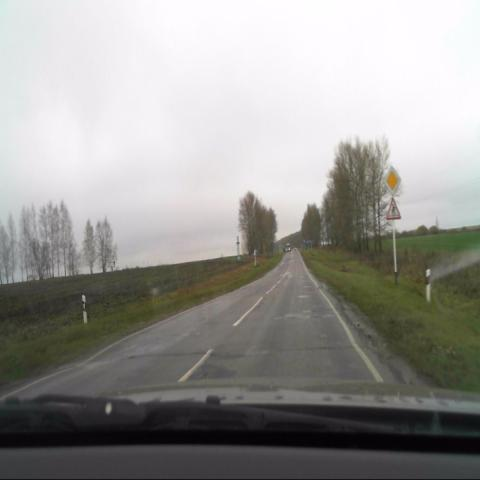1_22: (384, 196, 402, 221)
2_1: (383, 164, 401, 196)
